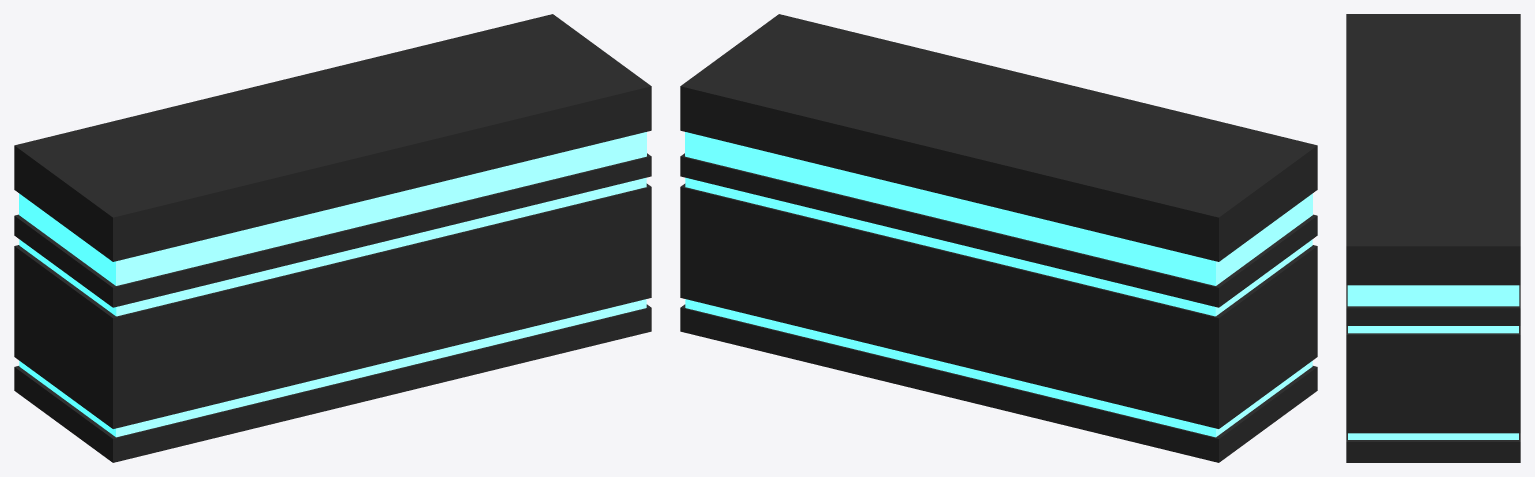
File: Low Wall.fbx
3 views of the same model, side by side, from view 1: azimuth 30°, elevation 25°; view 2: azimuth 150°, elevation 25°; view 3: azimuth 270°, elevation 25° (orthographic). The views are drawn at different scales.
Visible parts, largest first — view 1: Low Wall; view 2: Low Wall; view 3: Low Wall.
Part boxes in pixels (x1=…): Low Wall: x1=14, y1=14, x2=651, y2=462; Low Wall: x1=680, y1=14, x2=1317, y2=462; Low Wall: x1=1346, y1=14, x2=1520, y2=462.
Size of the model in its own units: 621 by 197 by 270.
